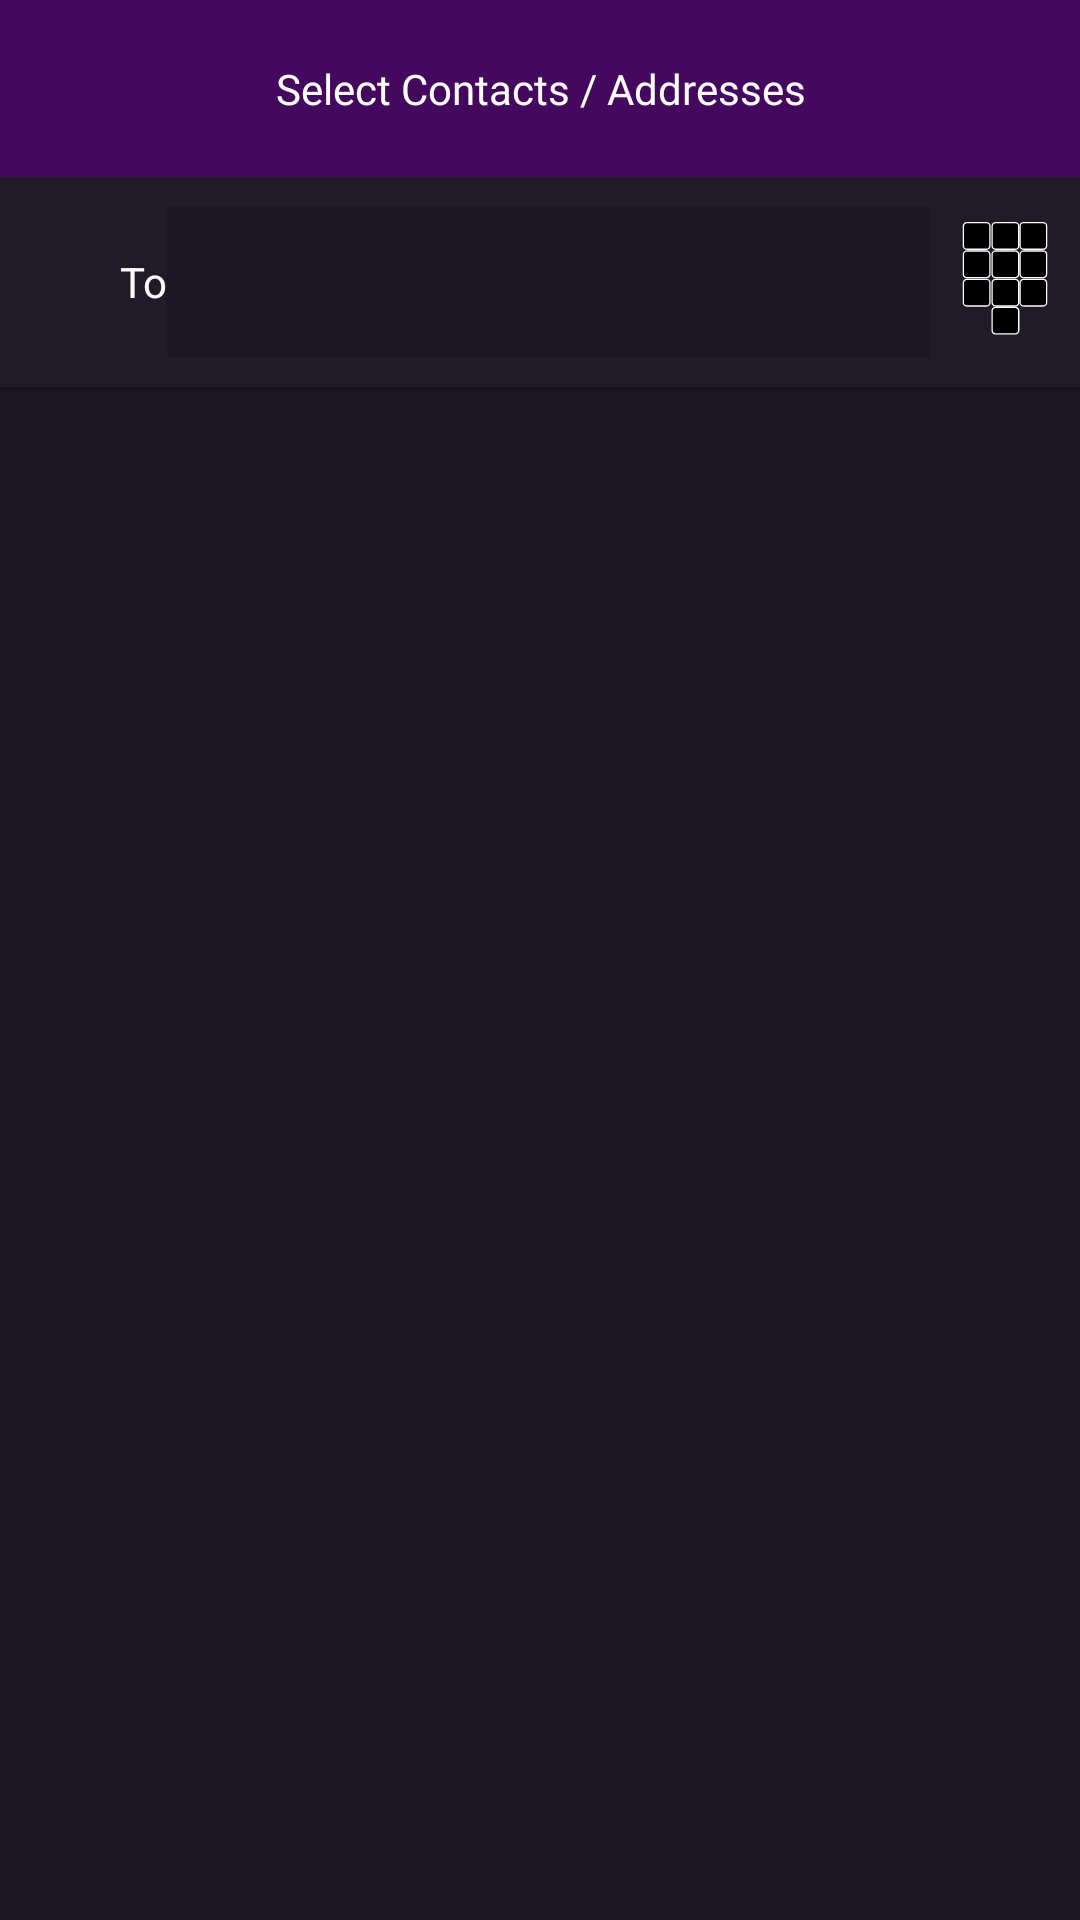

Icons on this 1080 x 1920 Android screen, each with its box as (left=x1, top=y1, right=x2, bottom=y2):
dial: (left=962, top=222, right=1048, bottom=335)
